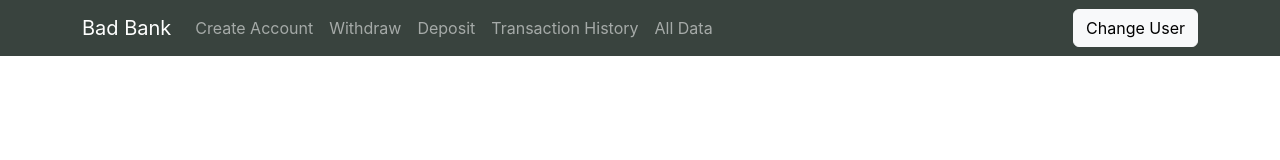
displays nav bar tooltips › renders Bad Bank nav tooltip
Hover over the link "Bad Bank".
mouse_move(127, 28)  # box [82,8,171,48]
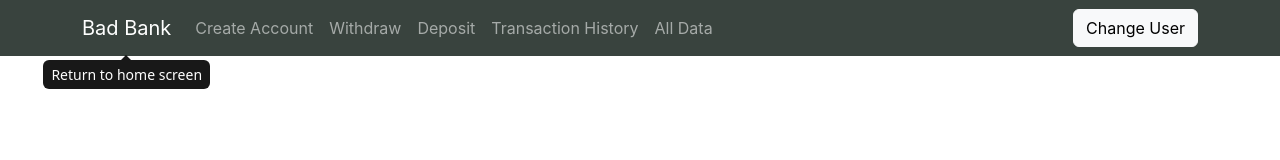
Expected: the text "Return to home screen" is shown, [43,60,210,89]
